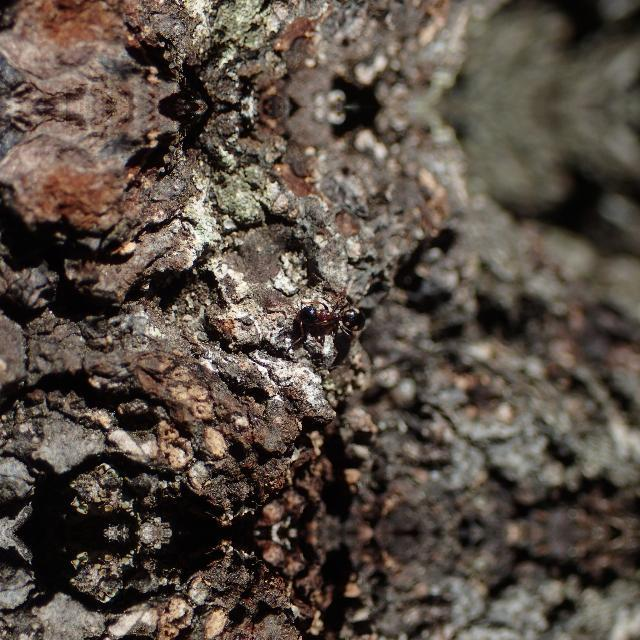Dolichoderus: (286, 292, 384, 340)
